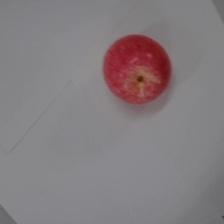red: (101, 32, 172, 106)
